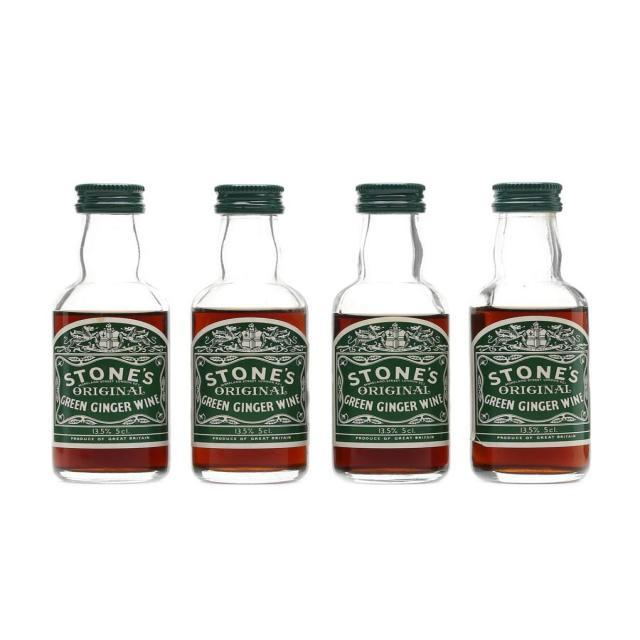Glass: (48, 179, 172, 485), (332, 174, 450, 486), (472, 181, 592, 487), (190, 183, 310, 484)
